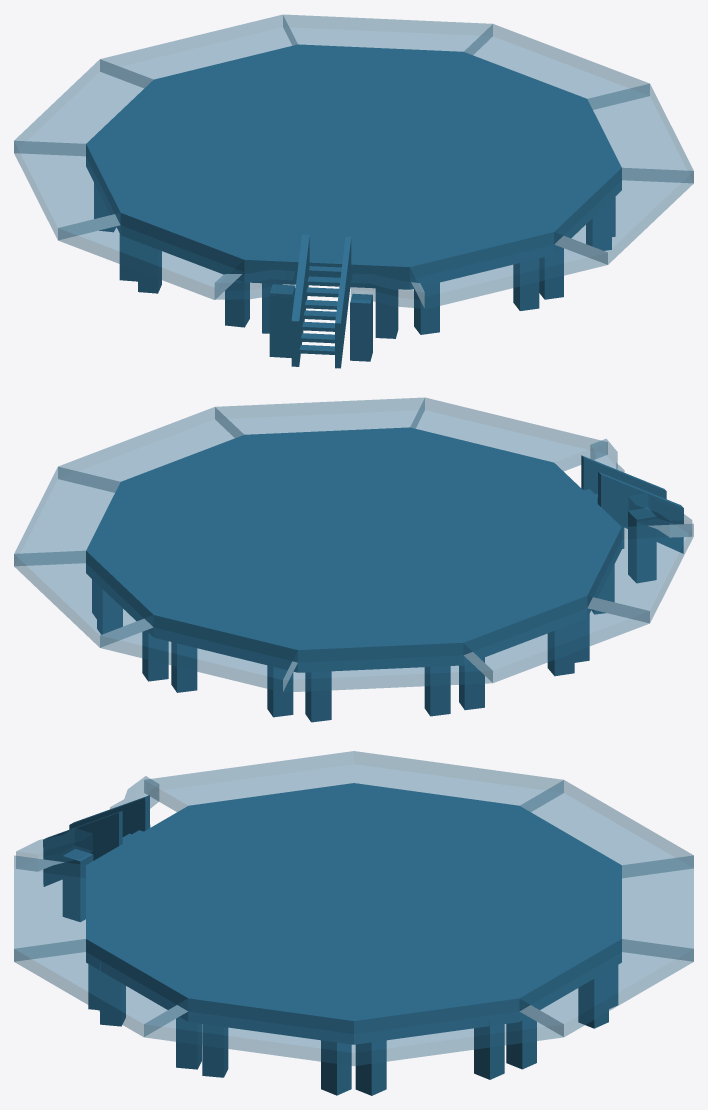
File: SM_Bld_Casino_Helicopter_Pad_01_Collision.fbx
3 views of the same model, one above another, from view 1: azimuth 30°, elevation 25°; view 2: azimuth 150°, elevation 25°; view 3: azimuth 270°, elevation 25° (orthographic). The views are drawn at different scales.
Parts seen in each view (by area): view 1: SM_Bld_Casino_Helicopter_Pad_01_Collision; view 2: SM_Bld_Casino_Helicopter_Pad_01_Collision; view 3: SM_Bld_Casino_Helicopter_Pad_01_Collision.
Part boxes in pixels (x1,y1,x2,y2): SM_Bld_Casino_Helicopter_Pad_01_Collision: (14, 14, 693, 368); SM_Bld_Casino_Helicopter_Pad_01_Collision: (14, 397, 693, 722); SM_Bld_Casino_Helicopter_Pad_01_Collision: (14, 751, 693, 1095).
Size of the model in its own units: 1824 by 304 by 1735.
